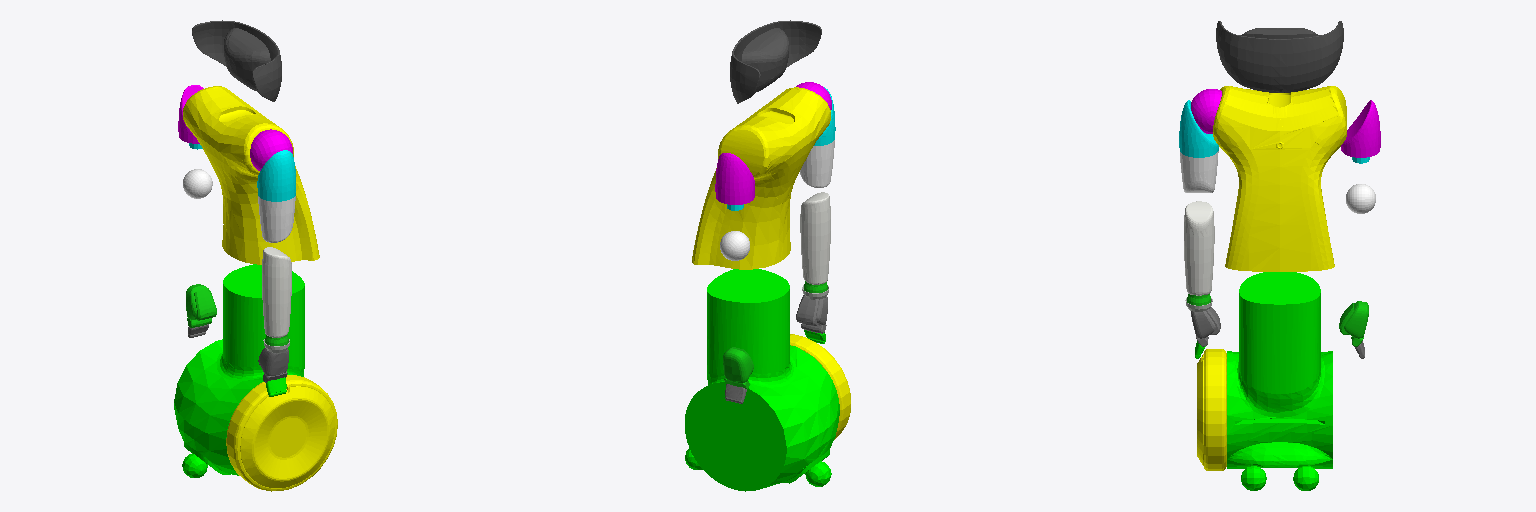
--- What the picture shows (computed from the rendered views, not written in the file) ---
The picture shows the robot from 3 angles, left to right: view 1: azimuth 30°, elevation 25°; view 2: azimuth 150°, elevation 25°; view 3: azimuth 270°, elevation 25°; orthographic projection.
Model R1SN000 with 59 links and 58 joints (27 revolute, 2 continuous, 3 prismatic, 26 fixed), rooted at mobile_base_body_link, posed all joints at 0.
Links seen in each view (by area): view 1: mobile_base_body_link, chest_link, mobile_base_r_tyre_link, head_link, r_forearm_link, r_shoulder_link, r_upperarm_link, l_hand_root_link, r_clavicle_link, r_hand_root_link, l_elbow_sphere_link, l_shoulder_link; view 2: mobile_base_body_link, chest_link, head_link, r_forearm_link, l_shoulder_link, mobile_base_r_tyre_link, r_upperarm_link, l_hand_root_link, r_hand_root_link, l_elbow_sphere_link; view 3: mobile_base_body_link, chest_link, head_link, mobile_base_r_tyre_link, r_forearm_link, l_shoulder_link, r_shoulder_link, r_upperarm_link, r_clavicle_link, l_hand_root_link, r_hand_root_link, l_elbow_sphere_link.
Link boxes in pixels (<box>): mobile_base_body_link: <box>174,264,304,477</box>; chest_link: <box>183,86,319,264</box>; mobile_base_r_tyre_link: <box>226,375,337,491</box>; head_link: <box>192,20,281,101</box>; r_forearm_link: <box>262,247,291,337</box>; r_shoulder_link: <box>257,150,295,201</box>; r_upperarm_link: <box>258,196,295,242</box>; l_hand_root_link: <box>186,284,216,327</box>; r_clavicle_link: <box>250,129,292,170</box>; r_hand_root_link: <box>258,348,288,382</box>; l_elbow_sphere_link: <box>183,169,212,198</box>; l_shoulder_link: <box>178,85,203,143</box>; mobile_base_body_link: <box>685,269,839,491</box>; chest_link: <box>692,87,830,269</box>; head_link: <box>730,20,821,103</box>; r_forearm_link: <box>800,192,830,284</box>; l_shoulder_link: <box>715,153,754,204</box>; mobile_base_r_tyre_link: <box>790,334,850,439</box>; r_upperarm_link: <box>800,140,834,187</box>; l_hand_root_link: <box>723,347,753,388</box>; r_hand_root_link: <box>796,295,827,333</box>; l_elbow_sphere_link: <box>720,231,749,260</box>; mobile_base_body_link: <box>1227,272,1332,490</box>; chest_link: <box>1213,86,1346,271</box>; head_link: <box>1216,21,1343,92</box>; mobile_base_r_tyre_link: <box>1197,349,1226,470</box>; r_forearm_link: <box>1184,201,1214,295</box>; l_shoulder_link: <box>1341,100,1380,157</box>; r_shoulder_link: <box>1179,100,1218,157</box>; r_upperarm_link: <box>1180,151,1218,192</box>; r_clavicle_link: <box>1191,89,1221,133</box>; l_hand_root_link: <box>1339,301,1368,346</box>; r_hand_root_link: <box>1191,307,1220,346</box>; l_elbow_sphere_link: <box>1346,184,1375,213</box>.
Bounding box of the posed robot: 0.394 × 0.5255 × 1.25 m (x, y, z).
19 mesh visuals loaded from 35 distinct referenced files (19 Collada DAE); not drawn: 16 (reference not matched to a file when rendering).

The robot description file, URDF, robot "R1SN000":

<robot name="R1SN000">
  <link name="mobile_base_body_link">
    <inertial>
      <origin xyz="0.00353188 0 0.062803" rpy="0 0 0"/>
      <mass value="14.0"/>
      <inertia ixx="0.342401" ixy="0.0" ixz="-0.0396992" iyy="0.362542" iyz="0.0" izz="0.168981"/>
    </inertial>
    <visual>
      <origin xyz="0 0 -0.16" rpy="0 0 0"/>
      <geometry>
        <mesh filename="package://cer/meshes/dae/sim_cer_mobilebase_body.dae" scale="0.001 0.001 0.001"/>
      </geometry>
      <material name="green">
        <color rgba="0 1 0 1"/>
      </material>
    </visual>
    <collision>
      <origin xyz="0 0 -0.16" rpy="0 0 0"/>
      <geometry>
        <mesh filename="package://cer/meshes/dae/sim_cer_mobilebase_body.dae" scale="0.001 0.001 0.001"/>
      </geometry>
    </collision>
  </link>
  <link name="base_link"/>
  <joint name="base_link_fixed_joint" type="fixed">
    <origin xyz="0 0 0" rpy="0 0 0"/>
    <parent link="mobile_base_body_link"/>
    <child link="base_link"/>
    <dynamics damping="0.1"/>
  </joint>
  <link name="ground_link"/>
  <joint name="ground_link_fixed_joint" type="fixed">
    <origin xyz="0 0 -0.2" rpy="0 0 0"/>
    <parent link="base_link"/>
    <child link="ground_link"/>
    <dynamics damping="0.1"/>
  </joint>
  <link name="mobile_base_lidar"/>
  <joint name="mobile_base_lidar_fixed_joint" type="fixed">
    <origin xyz="0.07 0 0.031" rpy="0 0 0"/>
    <parent link="mobile_base_body_link"/>
    <child link="mobile_base_lidar"/>
    <dynamics damping="0.1"/>
  </joint>
  <link name="torso_slider_eq_link">
    <inertial>
      <origin xyz="0.015175 2.80975e-06 0.244533" rpy="0 0 0"/>
      <mass value="7.5"/>
      <inertia ixx="0.0978792" ixy="-1.83466e-06" ixz="0.00625726" iyy="0.0969511" iyz="0.0" izz="0.0746114"/>
    </inertial>
    <visual>
      <origin xyz="-0.044 0 -0.231" rpy="0 0 0"/>
      <geometry>
        <mesh filename="package://cer/meshes/dae/sim_cer_torso_slider_eq.dae" scale="0.001 0.001 0.001"/>
      </geometry>
      <material name="black">
        <color rgba="0 0 0 1"/>
      </material>
    </visual>
    <collision>
      <origin xyz="-0.044 0 -0.231" rpy="0 0 0"/>
      <geometry>
        <mesh filename="package://cer/meshes/dae/sim_cer_torso_slider_eq.dae" scale="0.001 0.001 0.001"/>
      </geometry>
    </collision>
  </link>
  <joint name="torso_heave_eq_joint" type="prismatic">
    <origin xyz="0.044 0 0.071" rpy="0 0 0"/>
    <axis xyz="0.0 0.0 1.0"/>
    <parent link="mobile_base_body_link"/>
    <child link="torso_slider_eq_link"/>
    <limit effort="1200.0" lower="0.0" upper="0.17" velocity="0.5"/>
    <dynamics damping="1000.0"/>
  </joint>
  <link name="torso_pin_eq_link">
    <inertial>
      <origin xyz="0 0 0" rpy="0 0 0"/>
      <mass value="1.5"/>
      <inertia ixx="0.000379688" ixy="0.0" ixz="0.0" iyy="0.00143984" iyz="0.0" izz="0.00143984"/>
    </inertial>
    <visual>
      <origin xyz="0 0 0" rpy="0 0 0"/>
      <geometry>
        <mesh filename="package://cer/meshes/dae/sim_cer_torso_pin_eq.dae" scale="0.001 0.001 0.001"/>
      </geometry>
      <material name="red">
        <color rgba="1 0 0 1"/>
      </material>
    </visual>
    <collision>
      <origin xyz="0 0 0" rpy="0 0 0"/>
      <geometry>
        <mesh filename="package://cer/meshes/dae/sim_cer_torso_pin_eq.dae" scale="0.001 0.001 0.001"/>
      </geometry>
    </collision>
  </link>
  <joint name="torso_roll_eq_joint" type="revolute">
    <origin xyz="0 0 0.399" rpy="3.14159265359 0 0"/>
    <axis xyz="1.0 0.0 0.0"/>
    <parent link="torso_slider_eq_link"/>
    <child link="torso_pin_eq_link"/>
    <limit effort="50.0" lower="-0.523598775598" upper="0.523598775598" velocity="3.14"/>
    <dynamics damping="100.0"/>
  </joint>
  <link name="torso_platform_link">
    <inertial>
      <origin xyz="0 0 0" rpy="0 0 0"/>
      <mass value="1.5"/>
      <inertia ixx="0.00153125" ixy="0.0" ixz="0.0" iyy="0.00153125" iyz="0.0" izz="0.0030375"/>
    </inertial>
    <visual>
      <origin xyz="-0.044 0 -0.63" rpy="0 0 0"/>
      <geometry>
        <mesh filename="package://cer/meshes/dae/sim_cer_torso_platform.dae" scale="0.001 0.001 0.001"/>
      </geometry>
      <material name="blue">
        <color rgba="0 0 1 1"/>
      </material>
    </visual>
    <collision>
      <origin xyz="-0.044 0 -0.63" rpy="0 0 0"/>
      <geometry>
        <mesh filename="package://cer/meshes/dae/sim_cer_torso_platform.dae" scale="0.001 0.001 0.001"/>
      </geometry>
    </collision>
  </link>
  <joint name="torso_pitch_eq_joint" type="revolute">
    <origin xyz="0 0 0" rpy="3.14159265359 0 0"/>
    <axis xyz="0.0 1.0 0.0"/>
    <parent link="torso_pin_eq_link"/>
    <child link="torso_platform_link"/>
    <limit effort="50.0" lower="-0.523598775598" upper="0.523598775598" velocity="3.14"/>
    <dynamics damping="100.0"/>
  </joint>
  <link name="torso_tripod_root"/>
  <joint name="torso_tripod_root_fixed_joint" type="fixed">
    <origin xyz="0 0 0" rpy="0 0 3.14159265359"/>
    <parent link="torso_platform_link"/>
    <child link="torso_tripod_root"/>
    <dynamics damping="0.1"/>
  </joint>
  <link name="chest_link">
    <inertial>
      <origin xyz="-0.0330305 0 0.220198" rpy="0 0 0"/>
      <mass value="13.0"/>
      <inertia ixx="0.275816" ixy="0.0" ixz="0.0564476" iyy="0.253579" iyz="0.0" izz="0.127156"/>
    </inertial>
    <visual>
      <origin xyz="-0.044 0 -0.63" rpy="0 0 0"/>
      <geometry>
        <mesh filename="package://cer/meshes/dae/sim_cer_chest.dae" scale="0.001 0.001 0.001"/>
      </geometry>
      <material name="yellow">
        <color rgba="1 1 0 1"/>
      </material>
    </visual>
    <collision>
      <origin xyz="-0.044 0 -0.63" rpy="0 0 0"/>
      <geometry>
        <mesh filename="package://cer/meshes/dae/sim_cer_chest.dae" scale="0.001 0.001 0.001"/>
      </geometry>
    </collision>
  </link>
  <joint name="torso_yaw_joint" type="revolute">
    <origin xyz="0 0 0" rpy="0 0 0"/>
    <axis xyz="0.0 0.0 1.0"/>
    <parent link="torso_platform_link"/>
    <child link="chest_link"/>
    <limit effort="30.0" lower="-1.0471975512" upper="1.0471975512" velocity="3.14"/>
    <dynamics damping="10.0"/>
  </joint>
  <link name="torso"/>
  <joint name="torso_fixed_joint" type="fixed">
    <origin xyz="-0.042 0 0.185" rpy="0 0 0"/>
    <parent link="chest_link"/>
    <child link="torso"/>
    <dynamics damping="0.1"/>
  </joint>
  <link name="r_clavicle_link">
    <inertial>
      <origin xyz="0 0 0" rpy="0 0 0"/>
      <mass value="0.2"/>
      <inertia ixx="0.000288" ixy="0.0" ixz="0.0" iyy="0.000288" iyz="0.0" izz="0.000288"/>
    </inertial>
    <visual>
      <origin xyz="0.04 0.177 -1.0" rpy="0 0 0"/>
      <geometry>
        <mesh filename="package://cer/meshes/dae/sim_cer_r_clavicle.dae" scale="0.001 0.001 0.001"/>
      </geometry>
      <material name="pink">
        <color rgba="1 0 1 1"/>
      </material>
    </visual>
    <collision>
      <origin xyz="0.04 0.177 -1.0" rpy="0 0 0"/>
      <geometry>
        <mesh filename="package://cer/meshes/dae/sim_cer_r_clavicle.dae" scale="0.001 0.001 0.001"/>
      </geometry>
    </collision>
  </link>
  <joint name="r_shoulder_pitch_joint" type="revolute">
    <origin xyz="-0.084 -0.177 0.37" rpy="0 0 0"/>
    <axis xyz="0.0 -0.970296 0.241922"/>
    <parent link="chest_link"/>
    <child link="r_clavicle_link"/>
    <limit effort="30.0" lower="-0.523598775598" upper="1.57079632679" velocity="3.14"/>
    <dynamics damping="10.0"/>
  </joint>
  <link name="r_shoulder_link">
    <inertial>
      <origin xyz="1.5e-06 -0.042148 -0.06332" rpy="0 0 0"/>
      <mass value="0.5"/>
      <inertia ixx="0.00076143" ixy="0.0" ixz="-2.84508e-08" iyy="0.000819748" iyz="0.000135828" izz="0.000588486"/>
    </inertial>
    <visual>
      <origin xyz="0.04 0.177 -1.0" rpy="0 0 0"/>
      <geometry>
        <mesh filename="package://cer/meshes/dae/sim_cer_r_shoulder.dae" scale="0.001 0.001 0.001"/>
      </geometry>
      <material name="cyan">
        <color rgba="0 1 1 1"/>
      </material>
    </visual>
    <collision>
      <origin xyz="0.04 0.177 -1.0" rpy="0 0 0"/>
      <geometry>
        <mesh filename="package://cer/meshes/dae/sim_cer_r_shoulder.dae" scale="0.001 0.001 0.001"/>
      </geometry>
    </collision>
  </link>
  <joint name="r_shoulder_roll_joint" type="revolute">
    <origin xyz="0 0 0" rpy="0 0 0"/>
    <axis xyz="-1.0 0.0 0.0"/>
    <parent link="r_clavicle_link"/>
    <child link="r_shoulder_link"/>
    <limit effort="30.0" lower="-0.174532925199" upper="1.308996939" velocity="3.14"/>
    <dynamics damping="10.0"/>
  </joint>
  <link name="r_upperarm_FT_sensor_link">
    <inertial>
      <origin xyz="0 0 -0.014527" rpy="0 0 0"/>
      <mass value="0.3"/>
      <inertia ixx="6.00899e-05" ixy="0.0" ixz="0.0" iyy="6.00898e-05" iyz="0.0" izz="7.59375e-05"/>
    </inertial>
    <visual>
      <origin xyz="0.04 0.211 -0.89" rpy="0 0 0"/>
      <geometry>
        <mesh filename="package://cer/meshes/dae/sim_cer_r_upperarm_sensor.dae" scale="0.001 0.001 0.001"/>
      </geometry>
      <material name="green"/>
    </visual>
    <collision>
      <origin xyz="0.04 0.211 -0.89" rpy="0 0 0"/>
      <geometry>
        <mesh filename="package://cer/meshes/dae/sim_cer_r_upperarm_sensor.dae" scale="0.001 0.001 0.001"/>
      </geometry>
    </collision>
  </link>
  <joint name="r_shoulder_yaw_joint" type="revolute">
    <origin xyz="0 -0.034 -0.11" rpy="0 0 0"/>
    <axis xyz="0.0 0.0 -1.0"/>
    <parent link="r_shoulder_link"/>
    <child link="r_upperarm_FT_sensor_link"/>
    <limit effort="15.0" lower="-1.57079632679" upper="1.57079632679" velocity="3.14"/>
    <dynamics damping="10.0"/>
  </joint>
  <link name="r_upperarm_FT_sensor_frame"/>
  <joint name="r_upperarm_FT_sensor_frame_fixed_joint" type="fixed">
    <origin xyz="0 0 -0.0294" rpy="3.14159265359 0 1.57079632679"/>
    <parent link="r_upperarm_FT_sensor_link"/>
    <child link="r_upperarm_FT_sensor_frame"/>
    <dynamics damping="0.1"/>
  </joint>
  <link name="r_upperarm_link">
    <inertial>
      <origin xyz="0.000197 -0.001254 0.030305" rpy="3.14159265359 0 1.57079632679"/>
      <mass value="0.5"/>
      <inertia ixx="0.000849608" ixy="0.0" ixz="-3.39184e-05" iyy="0.000841002" iyz="-4.47567e-07" izz="0.000581528"/>
    </inertial>
    <visual>
      <origin xyz="0.211 0.04 0.8606" rpy="3.14159265359 0 1.57079632679"/>
      <geometry>
        <mesh filename="package://cer/meshes/dae/sim_cer_r_upperarm.dae" scale="0.001 0.001 0.001"/>
      </geometry>
      <material name="white">
        <color rgba="1 1 1 1"/>
      </material>
    </visual>
    <collision>
      <origin xyz="0.211 0.04 0.8606" rpy="3.14159265359 0 1.57079632679"/>
      <geometry>
        <mesh filename="package://cer/meshes/dae/sim_cer_r_upperarm.dae" scale="0.001 0.001 0.001"/>
      </geometry>
    </collision>
  </link>
  <joint name="r_upperarm_FT_sensor" type="fixed">
    <origin xyz="0 0 -0.0294" rpy="3.14159265359 0 1.57079632679"/>
    <parent link="r_upperarm_FT_sensor_link"/>
    <child link="r_upperarm_link"/>
    <dynamics damping="0.1"/>
  </joint>
  <link name="r_elbow_sphere_link">
    <inertial>
      <origin xyz="0 0 0" rpy="0 0 0"/>
      <mass value="0.2"/>
      <inertia ixx="0.000128" ixy="0.0" ixz="0.0" iyy="0.000128" iyz="0.0" izz="0.000128"/>
    </inertial>
    <visual>
      <origin xyz="0.04 0.211 -0.749" rpy="0 0 0"/>
      <geometry>
        <mesh filename="package://cer/meshes/dae/sim_cer_r_elbow_sphere.dae" scale="0.001 0.001 0.001"/>
      </geometry>
      <material name="dblue">
        <color rgba="0 0 0.8 1"/>
      </material>
    </visual>
    <collision>
      <origin xyz="0.04 0.211 -0.749" rpy="0 0 0"/>
      <geometry>
        <mesh filename="package://cer/meshes/dae/sim_cer_r_elbow_sphere.dae" scale="0.001 0.001 0.001"/>
      </geometry>
    </collision>
  </link>
  <joint name="r_elbow_joint" type="revolute">
    <origin xyz="0 0 0.1116" rpy="3.14159265359 0 1.57079632679"/>
    <axis xyz="0.0 -1.0 0.0"/>
    <parent link="r_upperarm_link"/>
    <child link="r_elbow_sphere_link"/>
    <limit effort="20.0" lower="0.0" upper="1.74532925199" velocity="3.14"/>
    <dynamics damping="10.0"/>
  </joint>
  <link name="r_forearm_link">
    <inertial>
      <origin xyz="-0.0005116 0.000175 -0.072511" rpy="0 0 0"/>
      <mass value="0.6"/>
      <inertia ixx="0.00283352" ixy="0.0" ixz="3.15449e-05" iyy="0.00282953" iyz="-1.03787e-07" izz="0.000436673"/>
    </inertial>
    <visual>
      <origin xyz="0.04 0.211 -0.678" rpy="0 0 0"/>
      <geometry>
        <mesh filename="package://cer/meshes/dae/sim_cer_r_forearm.dae" scale="0.001 0.001 0.001"/>
      </geometry>
      <material name="r_forearm_link_color">
        <color rgba="0.929 0.933 0.91 1.0"/>
      </material>
    </visual>
    <collision>
      <origin xyz="0.04 0.211 -0.678" rpy="0 0 0"/>
      <geometry>
        <mesh filename="package://cer/meshes/dae/sim_cer_r_forearm.dae" scale="0.001 0.001 0.001"/>
      </geometry>
    </collision>
  </link>
  <joint name="r_wrist_pronosupination_joint" type="revolute">
    <origin xyz="0 0 -0.071" rpy="0 0 0"/>
    <axis xyz="0.0 0.0 -1.0"/>
    <parent link="r_elbow_sphere_link"/>
    <child link="r_forearm_link"/>
    <limit effort="10.0" lower="-1.57079632679" upper="1.57079632679" velocity="3.14"/>
    <dynamics damping="10.0"/>
  </joint>
  <link name="r_wrist_tripod_root"/>
  <joint name="r_wrist_tripod_root_fixed_joint" type="fixed">
    <origin xyz="0 0 -0.22" rpy="3.14159265359 0 1.57079632679"/>
    <parent link="r_forearm_link"/>
    <child link="r_wrist_tripod_root"/>
    <dynamics damping="0.1"/>
  </joint>
  <link name="r_wrist_slider_eq_link">
    <inertial>
      <origin xyz="0 5.9e-05 -0.225759" rpy="0 0 0"/>
      <mass value="0.3"/>
      <inertia ixx="0.00094001" ixy="0.0" ixz="0.0" iyy="0.000940012" iyz="0.0" izz="0.00022094"/>
    </inertial>
    <visual>
      <origin xyz="0.04 0.211 -0.749" rpy="0 0 0"/>
      <geometry>
        <mesh filename="package://cer/meshes/dae/sim_cer_r_wrist_slider.dae" scale="0.001 0.001 0.001"/>
      </geometry>
      <material name="dgreen">
        <color rgba="0.1 0.8 0.1 1"/>
      </material>
    </visual>
    <collision>
      <origin xyz="0.04 0.211 -0.749" rpy="0 0 0"/>
      <geometry>
        <mesh filename="package://cer/meshes/dae/sim_cer_r_wrist_slider.dae" scale="0.001 0.001 0.001"/>
      </geometry>
    </collision>
  </link>
  <joint name="r_wrist_heave_eq_joint" type="prismatic">
    <origin xyz="0 0 0.071" rpy="0 0 0"/>
    <axis xyz="0.0 0.0 -1.0"/>
    <parent link="r_forearm_link"/>
    <child link="r_wrist_slider_eq_link"/>
    <limit effort="200.0" lower="0.0" upper="0.13" velocity="0.25"/>
    <dynamics damping="100.0"/>
  </joint>
  <link name="r_wrist_cup_eq_link">
    <inertial>
      <origin xyz="-1.1e-05 -0.0319409 -0.018146" rpy="0 0 0"/>
      <mass value="0.2"/>
      <inertia ixx="0.000102239" ixy="0.0" ixz="3.78925e-08" iyy="0.000102239" iyz="0.0" izz="0.000163555"/>
    </inertial>
    <visual>
      <origin xyz="0.04 0.179 -0.458" rpy="0 0 0"/>
      <geometry>
        <mesh filename="package://cer/meshes/dae/sim_cer_r_wrist_cup_eq.dae" scale="0.001 0.001 0.001"/>
      </geometry>
      <material name="r_wrist_cup_eq_link_color">
        <color rgba="0.776 0.8 0.769 1.0"/>
      </material>
    </visual>
    <collision>
      <origin xyz="0.04 0.179 -0.458" rpy="0 0 0"/>
      <geometry>
        <mesh filename="package://cer/meshes/dae/sim_cer_r_wrist_cup_eq.dae" scale="0.001 0.001 0.001"/>
      </geometry>
    </collision>
  </link>
  <joint name="r_wrist_roll_eq_joint" type="revolute">
    <origin xyz="-0.032 0 -0.291" rpy="0 0 1.57079632679"/>
    <axis xyz="0.0 1.0 0.0"/>
    <parent link="r_wrist_slider_eq_link"/>
    <child link="r_wrist_cup_eq_link"/>
    <limit effort="10.0" lower="-0.523598775598" upper="0.523598775598" velocity="3.14"/>
    <dynamics damping="10.0"/>
  </joint>
  <link name="r_hand_root_link">
    <inertial>
      <origin xyz="0.0001906 0.013614 -0.06234" rpy="0 0 0"/>
      <mass value="0.3"/>
      <inertia ixx="0.000294522" ixy="-1.41036e-06" ixz="6.91732e-08" iyy="0.000297774" iyz="2.11461e-05" izz="0.000189897"/>
    </inertial>
    <visual>
      <origin xyz="0.04 0.211 -0.458" rpy="0 0 0"/>
      <geometry>
        <mesh filename="package://cer/meshes/dae/sim_cer_r_hand_root.dae" scale="0.001 0.001 0.001"/>
      </geometry>
      <material name="gray">
        <color rgba="0.5 0.5 0.5 1"/>
      </material>
    </visual>
    <collision>
      <origin xyz="0.04 0.211 -0.458" rpy="0 0 0"/>
      <geometry>
        <mesh filename="package://cer/meshes/dae/sim_cer_r_hand_root.dae" scale="0.001 0.001 0.001"/>
      </geometry>
    </collision>
  </link>
  <joint name="r_wrist_pitch_eq_joint" type="revolute">
    <origin xyz="0 -0.032 0" rpy="0 0 -1.57079632679"/>
    <axis xyz="0.0 -1.0 0.0"/>
    <parent link="r_wrist_cup_eq_link"/>
    <child link="r_hand_root_link"/>
    <limit effort="10.0" lower="-0.523598775598" upper="0.523598775598" velocity="3.14"/>
    <dynamics damping="10.0"/>
  </joint>
  <link name="r_wrist"/>
  <joint name="r_wrist_fixed_joint" type="fixed">
    <origin xyz="0 0 0" rpy="3.14159265359 0 1.57079632679"/>
    <parent link="r_hand_root_link"/>
    <child link="r_wrist"/>
    <dynamics damping="0.1"/>
  </joint>
  <link name="r_gripper"/>
  <joint name="r_gripper_fixed_joint" type="fixed">
    <origin xyz="0 0.026917 -0.100456" rpy="0 1.30899714732 1.57079632679"/>
    <parent link="r_hand_root_link"/>
    <child link="r_gripper"/>
    <dynamics damping="0.1"/>
  </joint>
  <link name="r_hand_paddle_proximal_link">
    <inertial>
      <origin xyz="-9.65e-05 -0.010867 -0.022258" rpy="0 0 0"/>
      <mass value="0.05"/>
      <inertia ixx="0.0001" ixy="6.93652e-09" ixz="1.75564e-08" iyy="0.0001" iyz="-1.81901e-06" izz="0.0001"/>
    </inertial>
    <visual>
      <origin xyz="0.04 0.198143 -0.345494" rpy="0 0 0"/>
      <geometry>
        <mesh filename="package://cer/meshes/dae/sim_cer_r_hand_paddle_proximal.dae" scale="0.001 0.001 0.001"/>
      </geometry>
      <material name="green"/>
    </visual>
    <collision>
      <origin xyz="0.04 0.198143 -0.345494" rpy="0 0 0"/>
      <geometry>
        <mesh filename="package://cer/meshes/dae/sim_cer_r_hand_paddle_proximal.dae" scale="0.001 0.001 0.001"/>
      </geometry>
    </collision>
  </link>
  <joint name="r_hand_paddle_proximal_joint" type="revolute">
    <origin xyz="0 0.012857 -0.112506" rpy="0 0 0"/>
    <axis xyz="1.0 0.0 0.0"/>
    <parent link="r_hand_root_link"/>
    <child link="r_hand_paddle_proximal_link"/>
    <limit effort="5.0" lower="0.0" upper="1.2217304764" velocity="3.14"/>
    <dynamics damping="10.0"/>
  </joint>
  <link name="r_hand_paddle_distal_link">
    <inertial>
      <origin xyz="0.0013214 -0.005592 -0.020601" rpy="0 0 0"/>
      <mass value="0.05"/>
      <inertia ixx="0.0001" ixy="1.94983e-07" ixz="9.0126e-07" iyy="0.0001" iyz="-6.79853e-07" izz="0.0001"/>
    </inertial>
    <visual>
      <origin xyz="0.04 0.214471 -0.306748" rpy="0 0 0"/>
      <geometry>
        <mesh filename="package://cer/meshes/dae/sim_cer_r_hand_paddle_distal.dae" scale="0.001 0.001 0.001"/>
      </geometry>
      <material name="black"/>
    </visual>
    <collision>
      <origin xyz="0.04 0.214471 -0.306748" rpy="0 0 0"/>
      <geometry>
        <mesh filename="package://cer/meshes/dae/sim_cer_r_hand_paddle_distal.dae" scale="0.001 0.001 0.001"/>
      </geometry>
    </collision>
  </link>
  <joint name="r_hand_paddle_distal_joint" type="revolute">
    <origin xyz="0 -0.016328 -0.038746" rpy="0 0 0"/>
    <axis xyz="1.0 0.0 0.0"/>
    <parent link="r_hand_paddle_proximal_link"/>
    <child link="r_hand_paddle_distal_link"/>
    <limit effort="5.0" lower="0.0" upper="1.2217304764" velocity="3.14"/>
    <dynamics damping="10.0"/>
  </joint>
  <link name="r_hand_paddle_tip"/>
  <joint name="r_hand_paddle_tip_fixed_joint" type="fixed">
    <origin xyz="0 -0.008959 -0.044226" rpy="0 1.30899714732 1.57079632679"/>
    <parent link="r_hand_paddle_distal_link"/>
    <child link="r_hand_paddle_tip"/>
    <dynamics damping="0.1"/>
  </joint>
  <link name="r_hand_thumb_proximal_link">
    <inertial>
      <origin xyz="0.002515 0.017936 -0.003159" rpy="0 0 0"/>
      <mass value="0.05"/>
      <inertia ixx="0.0001" ixy="1.49367e-09" ixz="3.12525e-10" iyy="0.0001" iyz="2.63475e-06" izz="0.0001"/>
    </inertial>
    <visual>
      <origin xyz="0.04 0.171352 -0.382282" rpy="0 0 0"/>
      <geometry>
        <mesh filename="package://cer/meshes/dae/sim_cer_r_hand_thumb_proximal.dae" scale="0.001 0.001 0.001"/>
      </geometry>
      <material name="red"/>
    </visual>
    <collision>
      <origin xyz="0.04 0.171352 -0.382282" rpy="0 0 0"/>
      <geometry>
        <mesh filename="package://cer/meshes/dae/sim_cer_r_hand_thumb_proximal.dae" scale="0.001 0.001 0.001"/>
      </geometry>
    </collision>
  </link>
  <joint name="r_hand_thumb_proximal_joint" type="revolute">
    <origin xyz="0 0.039648 -0.075718" rpy="0 0 0"/>
    <axis xyz="-1.0 0.0 0.0"/>
    <parent link="r_hand_root_link"/>
    <child link="r_hand_thumb_proximal_link"/>
    <limit effort="5.0" lower="0.0" upper="1.0471975512" velocity="3.14"/>
    <dynamics damping="10.0"/>
  </joint>
  <link name="r_hand_thumb_distal_link">
    <inertial>
      <origin xyz="0.0024483 0.014529 -0.005865" rpy="0 0 0"/>
      <mass value="0.05"/>
      <inertia ixx="3.85163e-06" ixy="-1.50194e-10" ixz="4.04682e-10" iyy="7.40388e-06" iyz="9.14021e-07" izz="8.52416e-06"/>
    </inertial>
    <visual>
      <origin xyz="0.04 0.130827 -0.371296" rpy="0 0 0"/>
      <geometry>
        <mesh filename="package://cer/meshes/dae/sim_cer_r_hand_thumb_distal.dae" scale="0.001 0.001 0.001"/>
      </geometry>
      <material name="blue"/>
    </visual>
    <collision>
      <origin xyz="0.04 0.130827 -0.371296" rpy="0 0 0"/>
      <geometry>
        <mesh filename="package://cer/meshes/dae/sim_cer_r_hand_thumb_distal.dae" scale="0.001 0.001 0.001"/>
      </geometry>
    </collision>
  </link>
  <joint name="r_hand_thumb_distal_joint" type="revolute">
    <origin xyz="0 0.040525 -0.010986" rpy="0 0 0"/>
    <axis xyz="-1.0 0.0 0.0"/>
    <parent link="r_hand_thumb_proximal_link"/>
    <child link="r_hand_thumb_distal_link"/>
    <limit effort="5.0" lower="0.0" upper="1.2217304764" velocity="3.14"/>
    <dynamics damping="10.0"/>
  </joint>
  <link name="r_hand_thumb_tip"/>
  <joint name="r_hand_thumb_tip_fixed_joint" type="fixed">
    <origin xyz="0 0.028617 -0.014073" rpy="0 1.30899714732 1.57079632679"/>
    <parent link="r_hand_thumb_distal_link"/>
    <child link="r_hand_thumb_tip"/>
    <dynamics damping="0.1"/>
  </joint>
  <link name="l_clavicle_link">
    <inertial>
      <origin xyz="0 0 0" rpy="0 0 0"/>
      <mass value="0.2"/>
      <inertia ixx="0.000288" ixy="0.0" ixz="0.0" iyy="0.000288" iyz="0.0" izz="0.000288"/>
    </inertial>
    <visual>
      <origin xyz="0.04 -0.177 -1.0" rpy="0 0 0"/>
      <geometry>
        <mesh filename="package://cer/meshes/dae/sim_cer_l_clavicle.dae" scale="0.001 0.001 0.001"/>
      </geometry>
      <material name="yellow"/>
    </visual>
    <collision>
      <origin xyz="0.04 -0.177 -1.0" rpy="0 0 0"/>
      <geometry>
        <mesh filename="package://cer/meshes/dae/sim_cer_l_clavicle.dae" scale="0.001 0.001 0.001"/>
      </geometry>
    </collision>
  </link>
  <joint name="l_shoulder_pitch_joint" type="revolute">
    <origin xyz="-0.084 0.177 0.37" rpy="0 0 0"/>
    <axis xyz="0.0 -0.970296 -0.241922"/>
    <parent link="chest_link"/>
    <child link="l_clavicle_link"/>
    <limit effort="30.0" lower="-0.523598775598" upper="1.57079632679" velocity="3.14"/>
    <dynamics damping="10.0"/>
  </joint>
  <link name="l_shoulder_link">
    <inertial>
      <origin xyz="1.5e-06 0.042148 -0.06332" rpy="0 0 0"/>
      <mass value="0.5"/>
      <inertia ixx="0.00076143" ixy="0.0" ixz="-2.84061e-08" iyy="0.000819748" iyz="-0.000135828" izz="0.000588486"/>
    </inertial>
    <visual>
      <origin xyz="0.04 -0.177 -1.0" rpy="0 0 0"/>
      <geometry>
        <mesh filename="package://cer/meshes/dae/sim_cer_l_shoulder.dae" scale="0.001 0.001 0.001"/>
      </geometry>
      <material name="pink"/>
    </visual>
    <collision>
      <origin xyz="0.04 -0.177 -1.0" rpy="0 0 0"/>
      <geometry>
        <mesh filename="package://cer/meshes/dae/sim_cer_l_shoulder.dae" scale="0.001 0.001 0.001"/>
      </geometry>
    </collision>
  </link>
  <joint name="l_shoulder_roll_joint" type="revolute">
    <origin xyz="0 0 0" rpy="0 0 0"/>
    <axis xyz="1.0 0.0 0.0"/>
    <parent link="l_clavicle_link"/>
    <child link="l_shoulder_link"/>
    <limit effort="30.0" lower="-0.174532925199" upper="1.308996939" velocity="3.14"/>
    <dynamics damping="10.0"/>
  </joint>
  <link name="l_upperarm_FT_sensor_link">
    <inertial>
      <origin xyz="0 0 -0.014527" rpy="0 0 0"/>
      <mass value="0.3"/>
      <inertia ixx="6.00899e-05" ixy="0.0" ixz="0.0" iyy="6.00898e-05" iyz="0.0" izz="7.59375e-05"/>
    </inertial>
    <visual>
      <origin xyz="0.04 -0.211 -0.89" rpy="0 0 0"/>
      <geometry>
        <mesh filename="package://cer/meshes/dae/sim_cer_l_upperarm_sensor.dae" scale="0.001 0.001 0.001"/>
      </geometry>
      <material name="cyan"/>
    </visual>
    <collision>
      <origin xyz="0.04 -0.211 -0.89" rpy="0 0 0"/>
      <geometry>
        <mesh filename="package://cer/meshes/dae/sim_cer_l_upperarm_sensor.dae" scale="0.001 0.001 0.001"/>
      </geometry>
    </collision>
  </link>
  <joint name="l_shoulder_yaw_joint" type="revolute">
    <origin xyz="0 0.034 -0.11" rpy="0 0 0"/>
    <axis xyz="0.0 0.0 1.0"/>
    <parent link="l_shoulder_link"/>
    <child link="l_upperarm_FT_sensor_link"/>
    <limit effort="15.0" lower="-1.57079632679" upper="1.57079632679" velocity="3.14"/>
    <dynamics damping="10.0"/>
  </joint>
  <link name="l_upperarm_FT_sensor_frame"/>
  <joint name="l_upperarm_FT_sensor_frame_fixed_joint" type="fixed">
    <origin xyz="0 0 -0.0294" rpy="3.14159265359 0 1.57079632679"/>
    <parent link="l_upperarm_FT_sensor_link"/>
    <child link="l_upperarm_FT_sensor_frame"/>
    <dynamics damping="0.1"/>
  </joint>
  <link name="l_upperarm_link">
    <inertial>
      <origin xyz="-0.000197 -0.001254 0.030305" rpy="3.14159265359 0 1.57079632679"/>
      <mass value="0.5"/>
      <inertia ixx="0.000849607" ixy="0.0" ixz="-3.39183e-05" iyy="0.000841001" iyz="4.47458e-07" izz="0.000581528"/>
    </inertial>
    <visual>
      <origin xyz="-0.211 0.04 0.8606" rpy="3.14159265359 0 1.57079632679"/>
      <geometry>
        <mesh filename="package://cer/meshes/dae/sim_cer_l_upperarm.dae" scale="0.001 0.001 0.001"/>
      </geometry>
      <material name="green"/>
    </visual>
    <collision>
      <origin xyz="-0.211 0.04 0.8606" rpy="3.14159265359 0 1.57079632679"/>
      <geometry>
        <mesh filename="package://cer/meshes/dae/sim_cer_l_upperarm.dae" scale="0.001 0.001 0.001"/>
      </geometry>
    </collision>
  </link>
  <joint name="l_upperarm_FT_sensor" type="fixed">
    <origin xyz="0 0 -0.0294" rpy="3.14159265359 0 1.57079632679"/>
    <parent link="l_upperarm_FT_sensor_link"/>
    <child link="l_upperarm_link"/>
    <dynamics damping="0.1"/>
  </joint>
  <link name="l_elbow_sphere_link">
    <inertial>
      <origin xyz="0 0 0" rpy="0 0 0"/>
      <mass value="0.2"/>
      <inertia ixx="0.000128" ixy="0.0" ixz="0.0" iyy="0.000128" iyz="0.0" izz="0.000128"/>
    </inertial>
    <visual>
      <origin xyz="0.04 -0.211 -0.749" rpy="0 0 0"/>
      <geometry>
        <mesh filename="package://cer/meshes/dae/sim_cer_l_elbow_sphere.dae" scale="0.001 0.001 0.001"/>
      </geometry>
      <material name="white"/>
    </visual>
    <collision>
      <origin xyz="0.04 -0.211 -0.749" rpy="0 0 0"/>
      <geometry>
        <mesh filename="package://cer/meshes/dae/sim_cer_l_elbow_sphere.dae" scale="0.001 0.001 0.001"/>
      </geometry>
    </collision>
  </link>
  <joint name="l_elbow_joint" type="revolute">
    <origin xyz="0 0 0.1116" rpy="3.14159265359 0 1.57079632679"/>
    <axis xyz="0.0 -1.0 0.0"/>
    <parent link="l_upperarm_link"/>
    <child link="l_elbow_sphere_link"/>
    <limit effort="20.0" lower="0.0" upper="1.74532925199" velocity="3.14"/>
    <dynamics damping="10.0"/>
  </joint>
  <link name="l_forearm_link">
    <inertial>
      <origin xyz="-0.0005116 -0.000175 -0.072511" rpy="0 0 0"/>
      <mass value="0.6"/>
      <inertia ixx="0.00283352" ixy="0.0" ixz="3.15449e-05" iyy="0.00282953" iyz="1.0379e-07" izz="0.000436673"/>
    </inertial>
    <visual>
      <origin xyz="0.04 -0.211 -0.678" rpy="0 0 0"/>
      <geometry>
        <mesh filename="package://cer/meshes/dae/sim_cer_l_forearm.dae" scale="0.001 0.001 0.001"/>
      </geometry>
      <material name="l_forearm_link_color">
        <color rgba="0.929 0.933 0.91 1.0"/>
      </material>
    </visual>
    <collision>
      <origin xyz="0.04 -0.211 -0.678" rpy="0 0 0"/>
      <geometry>
        <mesh filename="package://cer/meshes/dae/sim_cer_l_forearm.dae" scale="0.001 0.001 0.001"/>
      </geometry>
    </collision>
  </link>
  <joint name="l_wrist_pronosupination_joint" type="revolute">
    <origin xyz="0 0 -0.071" rpy="0 0 0"/>
    <axis xyz="0.0 0.0 1.0"/>
    <parent link="l_elbow_sphere_link"/>
    <child link="l_forearm_link"/>
    <limit effort="10.0" lower="-1.57079632679" upper="1.57079632679" velocity="3.14"/>
    <dynamics damping="10.0"/>
  </joint>
  <link name="l_wrist_tripod_root"/>
  <joint name="l_wrist_tripod_root_fixed_joint" type="fixed">
    <origin xyz="0 0 -0.22" rpy="3.14159265359 0 -1.57079632679"/>
    <parent link="l_forearm_link"/>
    <child link="l_wrist_tripod_root"/>
    <dynamics damping="0.1"/>
  </joint>
  <link name="l_wrist_slider_eq_link">
    <inertial>
      <origin xyz="0 -5.9e-05 -0.225761" rpy="0 0 0"/>
      <mass value="0.3"/>
      <inertia ixx="0.000939997" ixy="0.0" ixz="0.0" iyy="0.00094" iyz="4.18243e-09" izz="0.000220942"/>
    </inertial>
    <visual>
      <origin xyz="0.04 -0.211 -0.749" rpy="0 0 0"/>
      <geometry>
        <mesh filename="package://cer/meshes/dae/sim_cer_l_wrist_slider.dae" scale="0.001 0.001 0.001"/>
      </geometry>
      <material name="dblue"/>
    </visual>
    <collision>
      <origin xyz="0.04 -0.211 -0.749" rpy="0 0 0"/>
      <geometry>
        <mesh filename="package://cer/meshes/dae/sim_cer_l_wrist_slider.dae" scale="0.001 0.001 0.001"/>
      </geometry>
    </collision>
  </link>
  <joint name="l_wrist_heave_eq_joint" type="prismatic">
    <origin xyz="0 0 0.071" rpy="0 0 0"/>
    <axis xyz="0.0 0.0 -1.0"/>
    <parent link="l_forearm_link"/>
    <child link="l_wrist_slider_eq_link"/>
    <limit effort="200.0" lower="0.0" upper="0.13" velocity="0.25"/>
    <dynamics damping="100.0"/>
  </joint>
  <link name="l_wrist_cup_eq_link">
    <inertial>
      <origin xyz="0.0319892 -5.9e-05 -0.018146" rpy="0 0 0"/>
      <mass value="0.2"/>
      <inertia ixx="0.000102239" ixy="0.0" ixz="3.78925e-08" iyy="0.000102239" iyz="0.0" izz="0.000163555"/>
    </inertial>
    <visual>
      <origin xyz="0.072 -0.211 -0.458" rpy="0 0 0"/>
      <geometry>
        <mesh filename="package://cer/meshes/dae/sim_cer_l_wrist_cup_eq.dae" scale="0.001 0.001 0.001"/>
      </geometry>
      <material name="l_wrist_cup_eq_link_color">
        <color rgba="0.776 0.8 0.769 1.0"/>
      </material>
    </visual>
    <collision>
      <origin xyz="0.072 -0.211 -0.458" rpy="0 0 0"/>
      <geometry>
        <mesh filename="package://cer/meshes/dae/sim_cer_l_wrist_cup_eq.dae" scale="0.001 0.001 0.001"/>
      </geometry>
    </collision>
  </link>
  <joint name="l_wrist_roll_eq_joint" type="revolute">
    <origin xyz="-0.032 0 -0.291" rpy="0 0 0"/>
    <axis xyz="1.0 0.0 0.0"/>
    <parent link="l_wrist_slider_eq_link"/>
    <child link="l_wrist_cup_eq_link"/>
    <limit effort="10.0" lower="-0.523598775598" upper="0.523598775598" velocity="3.14"/>
    <dynamics damping="10.0"/>
  </joint>
  <link name="l_hand_root_link">
    <inertial>
      <origin xyz="0.0001906 -0.013614 -0.06234" rpy="0 0 0"/>
      <mass value="0.3"/>
      <inertia ixx="0.000294522" ixy="1.41029e-06" ixz="6.92026e-08" iyy="0.000297775" iyz="-2.11461e-05" izz="0.000189897"/>
    </inertial>
    <visual>
      <origin xyz="0.04 -0.211 -0.458" rpy="0 0 0"/>
      <geometry>
        <mesh filename="package://cer/meshes/dae/sim_cer_l_hand_root.dae" scale="0.001 0.001 0.001"/>
      </geometry>
      <material name="dgreen"/>
    </visual>
    <collision>
      <origin xyz="0.04 -0.211 -0.458" rpy="0 0 0"/>
      <geometry>
        <mesh filename="package://cer/meshes/dae/sim_cer_l_hand_root.dae" scale="0.001 0.001 0.001"/>
      </geometry>
    </collision>
  </link>
  <joint name="l_wrist_pitch_eq_joint" type="revolute">
    <origin xyz="0.032 0 0" rpy="0 0 0"/>
    <axis xyz="0.0 -1.0 0.0"/>
    <parent link="l_wrist_cup_eq_link"/>
    <child link="l_hand_root_link"/>
    <limit effort="10.0" lower="-0.523598775598" upper="0.523598775598" velocity="3.14"/>
    <dynamics damping="10.0"/>
  </joint>
  <link name="l_wrist"/>
  <joint name="l_wrist_fixed_joint" type="fixed">
    <origin xyz="0 0 0" rpy="3.14159265359 0 -1.57079632679"/>
    <parent link="l_hand_root_link"/>
    <child link="l_wrist"/>
    <dynamics damping="0.1"/>
  </joint>
  <link name="l_gripper"/>
  <joint name="l_gripper_fixed_joint" type="fixed">
    <origin xyz="0 -0.026917 -0.100456" rpy="3.14159265359 1.30899714732 -1.57079632679"/>
    <parent link="l_hand_root_link"/>
    <child link="l_gripper"/>
    <dynamics damping="0.1"/>
  </joint>
  <link name="l_hand_paddle_proximal_link">
    <inertial>
      <origin xyz="-9.65e-05 0.010867 -0.022259" rpy="0 0 0"/>
      <mass value="0.05"/>
      <inertia ixx="0.0001" ixy="-6.9439e-09" ixz="1.7549e-08" iyy="0.0001" iyz="1.81902e-06" izz="0.0001"/>
    </inertial>
    <visual>
      <origin xyz="0.04 -0.198143 -0.345494" rpy="0 0 0"/>
      <geometry>
        <mesh filename="package://cer/meshes/dae/sim_cer_l_hand_paddle_proximal.dae" scale="0.001 0.001 0.001"/>
      </geometry>
      <material name="gray"/>
    </visual>
    <collision>
      <origin xyz="0.04 -0.198143 -0.345494" rpy="0 0 0"/>
      <geometry>
        <mesh filename="package://cer/meshes/dae/sim_cer_l_hand_paddle_proximal.dae" scale="0.001 0.001 0.001"/>
      </geometry>
    </collision>
  </link>
  <joint name="l_hand_paddle_proximal_joint" type="revolute">
    <origin xyz="0 -0.012857 -0.112506" rpy="0 0 0"/>
    <axis xyz="-1.0 0.0 0.0"/>
    <parent link="l_hand_root_link"/>
    <child link="l_hand_paddle_proximal_link"/>
    <limit effort="5.0" lower="0.0" upper="1.2217304764" velocity="3.14"/>
    <dynamics damping="10.0"/>
  </joint>
  <link name="l_hand_paddle_distal_link">
    <inertial>
      <origin xyz="0.0013214 0.005592 -0.020601" rpy="0 0 0"/>
      <mass value="0.05"/>
      <inertia ixx="0.0001" ixy="-1.94983e-07" ixz="9.01259e-07" iyy="0.0001" iyz="6.79853e-07" izz="0.0001"/>
    </inertial>
    <visual>
      <origin xyz="0.04 -0.214471 -0.306748" rpy="0 0 0"/>
      <geometry>
        <mesh filename="package://cer/meshes/dae/sim_cer_l_hand_paddle_distal.dae" scale="0.001 0.001 0.001"/>
      </geometry>
      <material name="green"/>
    </visual>
    <collision>
      <origin xyz="0.04 -0.214471 -0.306748" rpy="0 0 0"/>
      <geometry>
        <mesh filename="package://cer/meshes/dae/sim_cer_l_hand_paddle_distal.dae" scale="0.001 0.001 0.001"/>
      </geometry>
    </collision>
  </link>
  <joint name="l_hand_paddle_distal_joint" type="revolute">
    <origin xyz="0 0.016328 -0.038746" rpy="0 0 0"/>
    <axis xyz="-1.0 0.0 0.0"/>
    <parent link="l_hand_paddle_proximal_link"/>
    <child link="l_hand_paddle_distal_link"/>
    <limit effort="5.0" lower="0.0" upper="1.2217304764" velocity="3.14"/>
    <dynamics damping="10.0"/>
  </joint>
  <link name="l_hand_paddle_tip"/>
  <joint name="l_hand_paddle_tip_fixed_joint" type="fixed">
    <origin xyz="0 0.008959 -0.044226" rpy="3.14159265359 1.30899714732 -1.57079632679"/>
    <parent link="l_hand_paddle_distal_link"/>
    <child link="l_hand_paddle_tip"/>
    <dynamics damping="0.1"/>
  </joint>
  <link name="l_hand_thumb_proximal_link">
    <inertial>
      <origin xyz="0.002515 -0.017936 -0.003159" rpy="0 0 0"/>
      <mass value="0.05"/>
      <inertia ixx="0.0001" ixy="-1.50858e-09" ixz="3.04948e-10" iyy="0.0001" iyz="-2.63475e-06" izz="0.0001"/>
    </inertial>
    <visual>
      <origin xyz="0.04 -0.171352 -0.382282" rpy="0 0 0"/>
      <geometry>
        <mesh filename="package://cer/meshes/dae/sim_cer_l_hand_thumb_proximal.dae" scale="0.001 0.001 0.001"/>
      </geometry>
      <material name="black"/>
    </visual>
    <collision>
      <origin xyz="0.04 -0.171352 -0.382282" rpy="0 0 0"/>
      <geometry>
        <mesh filename="package://cer/meshes/dae/sim_cer_l_hand_thumb_proximal.dae" scale="0.001 0.001 0.001"/>
      </geometry>
    </collision>
  </link>
  <joint name="l_hand_thumb_proximal_joint" type="revolute">
    <origin xyz="0 -0.039648 -0.075718" rpy="0 0 0"/>
    <axis xyz="1.0 0.0 0.0"/>
    <parent link="l_hand_root_link"/>
    <child link="l_hand_thumb_proximal_link"/>
    <limit effort="5.0" lower="0.0" upper="1.0471975512" velocity="3.14"/>
    <dynamics damping="10.0"/>
  </joint>
  <link name="l_hand_thumb_distal_link">
    <inertial>
      <origin xyz="0.0021933 -0.014529 -0.005865" rpy="0 0 0"/>
      <mass value="0.05"/>
      <inertia ixx="0.0001" ixy="1.50893e-10" ixz="4.0488e-10" iyy="0.0001" iyz="-9.14021e-07" izz="0.0001"/>
    </inertial>
    <visual>
      <origin xyz="0.039745 -0.130827 -0.371296" rpy="0 0 0"/>
      <geometry>
        <mesh filename="package://cer/meshes/dae/sim_cer_l_hand_thumb_distal.dae" scale="0.001 0.001 0.001"/>
      </geometry>
      <material name="red"/>
    </visual>
    <collision>
      <origin xyz="0.039745 -0.130827 -0.371296" rpy="0 0 0"/>
      <geometry>
        <mesh filename="package://cer/meshes/dae/sim_cer_l_hand_thumb_distal.dae" scale="0.001 0.001 0.001"/>
      </geometry>
    </collision>
  </link>
  <joint name="l_hand_thumb_distal_joint" type="revolute">
    <origin xyz="0.000255 -0.040525 -0.010986" rpy="0 0 0"/>
    <axis xyz="1.0 0.0 0.0"/>
    <parent link="l_hand_thumb_proximal_link"/>
    <child link="l_hand_thumb_distal_link"/>
    <limit effort="5.0" lower="0.0" upper="1.2217304764" velocity="3.14"/>
    <dynamics damping="10.0"/>
  </joint>
  <link name="l_hand_thumb_tip"/>
  <joint name="l_hand_thumb_tip_fixed_joint" type="fixed">
    <origin xyz="-0.000255 -0.028617 -0.014073" rpy="3.14159265359 1.30899714732 -1.57079632679"/>
    <parent link="l_hand_thumb_distal_link"/>
    <child link="l_hand_thumb_tip"/>
    <dynamics damping="0.1"/>
  </joint>
  <link name="neck_link">
    <inertial>
      <origin xyz="-0.0003217 0 0.07756" rpy="0 0 0"/>
      <mass value="1.4"/>
      <inertia ixx="0.00429793" ixy="0.0" ixz="-0.000592817" iyy="0.00443784" iyz="-6.85477e-08" izz="0.000419904"/>
    </inertial>
    <visual>
      <origin xyz="0.05 0 -1.03" rpy="0 0 0"/>
      <geometry>
        <mesh filename="package://cer/meshes/dae/sim_cer_neck.dae" scale="0.001 0.001 0.001"/>
      </geometry>
      <material name="blue"/>
    </visual>
    <collision>
      <origin xyz="0.05 0 -1.03" rpy="0 0 0"/>
      <geometry>
        <mesh filename="package://cer/meshes/dae/sim_cer_neck.dae" scale="0.001 0.001 0.001"/>
      </geometry>
    </collision>
  </link>
  <joint name="neck_pitch_joint" type="revolute">
    <origin xyz="-0.094 0 0.4" rpy="0 0 0"/>
    <axis xyz="0.0 1.0 0.0"/>
    <parent link="chest_link"/>
    <child link="neck_link"/>
    <limit effort="10.0" lower="-0.523598775598" upper="0.872664625997" velocity="3.14"/>
    <dynamics damping="10.0"/>
  </joint>
  <link name="head_link">
    <inertial>
      <origin xyz="0.0301486 -1.57202e-06 -0.00035" rpy="0 0 0"/>
      <mass value="2.0"/>
      <inertia ixx="0.0106536" ixy="-7.34817e-08" ixz="0.000274098" iyy="0.00398482" iyz="1.64063e-07" izz="0.00944369"/>
    </inertial>
    <visual>
      <origin xyz="0.0383205 0 -1.18838" rpy="0 0 0"/>
      <geometry>
        <mesh filename="package://cer/meshes/dae/sim_cer_head.dae" scale="0.001 0.001 0.001"/>
      </geometry>
      <material name="head_link_color">
        <color rgba="0.368932 0.368932 0.368932 1.0"/>
      </material>
    </visual>
    <collision>
      <origin xyz="0.0383205 0 -1.18838" rpy="0 0 0"/>
      <geometry>
        <mesh filename="package://cer/meshes/dae/sim_cer_head.dae" scale="0.001 0.001 0.001"/>
      </geometry>
    </collision>
  </link>
  <joint name="neck_yaw_joint" type="revolute">
    <origin xyz="0.0116795 0 0.15838" rpy="0 0 0"/>
    <axis xyz="0.173648 0.0 0.984808"/>
    <parent link="neck_link"/>
    <child link="head_link"/>
    <limit effort="10.0" lower="-1.3962634016" upper="1.3962634016" velocity="3.14"/>
    <dynamics damping="10.0"/>
  </joint>
  <link name="depth_rgb"/>
  <joint name="depth_rgb_fixed_joint" type="fixed">
    <origin xyz="0.0598814 0.0184871 0.04402" rpy="-1.57079632679 0 -1.57079632679"/>
    <parent link="head_link"/>
    <child link="depth_rgb"/>
    <dynamics damping="0.1"/>
  </joint>
  <link name="head_leopard_cyclopic"/>
  <joint name="head_leopard_cyclopic_fixed_joint" type="fixed">
    <origin xyz="0.0521666 0 -0.06748" rpy="-1.57079632679 0 -1.57079632679"/>
    <parent link="head_link"/>
    <child link="head_leopard_cyclopic"/>
    <dynamics damping="0.1"/>
  </joint>
  <link name="gaze"/>
  <joint name="gaze_fixed_joint" type="fixed">
    <origin xyz="0.0494817 0 -0.01388" rpy="-1.57079632679 0 -1.57079632679"/>
    <parent link="head_link"/>
    <child link="gaze"/>
    <dynamics damping="0.1"/>
  </joint>
  <link name="head_leopard_right"/>
  <joint name="head_leopard_right_fixed_joint" type="fixed">
    <origin xyz="0.0521666 -0.0335105 -0.06748" rpy="-1.57079632679 0 -1.57079632679"/>
    <parent link="head_link"/>
    <child link="head_leopard_right"/>
    <dynamics damping="0.1"/>
  </joint>
  <link name="head_leopard_left"/>
  <joint name="head_leopard_left_fixed_joint" type="fixed">
    <origin xyz="0.0521666 0.0335105 -0.06748" rpy="-1.57079632679 0 -1.57079632679"/>
    <parent link="head_link"/>
    <child link="head_leopard_left"/>
    <dynamics damping="0.1"/>
  </joint>
  <link name="depth"/>
  <joint name="depth_fixed_joint" type="fixed">
    <origin xyz="0.0598814 0.0444871 0.04402" rpy="-1.57079632679 0 -1.57079632679"/>
    <parent link="head_link"/>
    <child link="depth"/>
    <dynamics damping="0.1"/>
  </joint>
  <link name="depth_center"/>
  <joint name="depth_center_fixed_joint" type="fixed">
    <origin xyz="0.0598756 0 0.04402" rpy="-1.57079632679 0 -1.57079632679"/>
    <parent link="head_link"/>
    <child link="depth_center"/>
    <dynamics damping="0.1"/>
  </joint>
  <link name="mobile_base_r_tyre_link">
    <inertial>
      <origin xyz="0 -0.034425 8.99999999998e-06" rpy="0 0 0"/>
      <mass value="3.0"/>
      <inertia ixx="0.0200196" ixy="0.0" ixz="0.0" iyy="0.0376169" iyz="8.28101e-07" izz="0.0200156"/>
    </inertial>
    <visual>
      <origin xyz="0 0.139 -0.16" rpy="0 0 0"/>
      <geometry>
        <mesh filename="package://cer/meshes/dae/sim_cer_mobilebase_r_tyre.dae" scale="0.001 0.001 0.001"/>
      </geometry>
      <material name="yellow"/>
    </visual>
    <collision>
      <origin xyz="0.0 -0.03 0.0" rpy="1.57079632679 0.0 0.0"/>
      <geometry>
        <cylinder radius="0.16" length="0.005"/>
      </geometry>
    </collision>
  </link>
  <joint name="mobile_base_r_wheel_joint" type="continuous">
    <origin xyz="0 -0.139 0" rpy="0 0 0"/>
    <axis xyz="0.0 1.0 0.0"/>
    <parent link="mobile_base_body_link"/>
    <child link="mobile_base_r_tyre_link"/>
    <limit effort="100.0" velocity="30.0"/>
    <dynamics damping="0.5"/>
  </joint>
  <link name="mobile_base_l_tyre_link">
    <inertial>
      <origin xyz="0 0.034425 8.99999999998e-06" rpy="0 0 0"/>
      <mass value="3.0"/>
      <inertia ixx="0.0200196" ixy="0.0" ixz="0.0" iyy="0.0376169" iyz="-8.28446e-07" izz="0.0200156"/>
    </inertial>
    <visual>
      <origin xyz="0 -0.139 -0.16" rpy="0 0 0"/>
      <geometry>
        <mesh filename="package://cer/meshes/dae/sim_cer_mobilebase_l_tyre.dae" scale="0.001 0.001 0.001"/>
      </geometry>
      <material name="pink"/>
    </visual>
    <collision>
      <origin xyz="0.0 0.03 0.0" rpy="1.57079632679 0.0 0.0"/>
      <geometry>
        <cylinder radius="0.16" length="0.005"/>
      </geometry>
    </collision>
  </link>
  <joint name="mobile_base_l_wheel_joint" type="continuous">
    <origin xyz="0 0.139 0" rpy="0 0 0"/>
    <axis xyz="0.0 1.0 0.0"/>
    <parent link="mobile_base_body_link"/>
    <child link="mobile_base_l_tyre_link"/>
    <limit effort="100.0" velocity="30.0"/>
    <dynamics damping="0.5"/>
  </joint>
  <gazebo reference="l_upperarm_FT_sensor">
    <sensor name="l_upperarm_FT_sensor" type="force_torque">
      <always_on>1</always_on>
      <update_rate>100</update_rate>
      <force_torque>
        <frame>child</frame>
        <measure_direction>child_to_parent</measure_direction>
      </force_torque>
    </sensor>
  </gazebo>
  <sensor name="l_upperarm_FT_sensor" type="force_torque">
    <parent joint="l_upperarm_FT_sensor"/>
    <force_torque>
      <frame>child</frame>
      <measure_direction>child_to_parent</measure_direction>
    </force_torque>
  </sensor>
  <gazebo reference="r_upperarm_FT_sensor">
    <sensor name="r_upperarm_FT_sensor" type="force_torque">
      <always_on>1</always_on>
      <update_rate>100</update_rate>
      <force_torque>
        <frame>child</frame>
        <measure_direction>child_to_parent</measure_direction>
      </force_torque>
    </sensor>
  </gazebo>
  <sensor name="r_upperarm_FT_sensor" type="force_torque">
    <parent joint="r_upperarm_FT_sensor"/>
    <force_torque>
      <frame>child</frame>
      <measure_direction>child_to_parent</measure_direction>
    </force_torque>
  </sensor>
  <gazebo reference="mobile_base_body_link">
    <sensor name="base_laser" type="ray">
      <always_on>1</always_on>
      <update_rate>40</update_rate>
      <pose>0.07 0.0 0.031 0.0 -0.0 0.0</pose>
      <ray>
 <scan>
  <horizontal>
   <samples>360</samples>
   <resolution>1</resolution>
   <min_angle>-3.14</min_angle>
   <max_angle>3.14</max_angle>
  </horizontal>
 </scan>
 <range>
  <min>0.10</min>
  <max>5.0</max>
  <resolution>0.01</resolution>
 </range>
 <noise>
  <type>gaussian</type>
  <mean>0.0</mean>
  <stddev>0.005</stddev>
 </noise>
</ray>
      <plugin name="laser_sensor" filename="libgazebo_yarp_lasersensor.so">
    <yarpConfigurationFile>package://cer/conf/gazebo_cer_laser_sensor.ini</yarpConfigurationFile>
</plugin>
    </sensor>
  </gazebo>
  <sensor name="base_laser" type="ray">
    <parent link="mobile_base_body_link"/>
    <origin rpy="0.0 -0.0 0.0" xyz="0.07 0.0 0.031"/>
  </sensor>
  <gazebo reference="head_link">
    <sensor name="multicamera_sensor" type="multicamera">
      <always_on>1</always_on>
      <update_rate>30</update_rate>
      <pose>0.0521666 0.0 -0.06748 -1.57079632679 -0.0 -1.57079632679</pose>
      <camera name="left_camera">
  <pose>-0.0325 0 0 -1.57079 -1.57079 3.14159</pose>
  <horizontal_fov>1.5708</horizontal_fov>
  <image>
     <width>640</width>
     <height>480</height>
  </image>
  <clip>
     <near>0.1</near>
     <far>100</far>
  </clip>
</camera>
      <camera name="right_camera">
  <pose>0.0325 0 0 -1.57079 -1.57079 3.14159</pose>
  <horizontal_fov>1.5708</horizontal_fov>
  <image>
    <width>640</width>
    <height>480</height>
  </image>
  <clip>
    <near>0.1</near>
    <far>100</far>
  </clip>
</camera>
      <plugin name="multicamera_plugin" filename="libgazebo_yarp_multicamera.so">
    <yarpConfigurationFile>package://cer/conf/gazebo_cer_multicamera.ini</yarpConfigurationFile>
</plugin>
    </sensor>
  </gazebo>
  <sensor name="multicamera_sensor" type="multicamera">
    <parent link="head_link"/>
    <origin rpy="-1.57079632679 -0.0 -1.57079632679" xyz="0.0521666 0.0 -0.06748"/>
  </sensor>
  <gazebo reference="head_link">
    <sensor name="asus_xtion_depth" type="depth">
      <always_on>1</always_on>
      <update_rate>30</update_rate>
      <pose>0.0598814 0.0444871 0.04402 -1.57079632679 -0.0 -1.57079632679</pose>
      <camera name="asus_xtion_depth_camera">
    <pose frame="">0 0 0 -1.57079 -1.57079 3.14159</pose>
    <horizontal_fov>1.02259</horizontal_fov>
    <distortion>
        <k1>0</k1>
        <k2>0</k2>
        <k3>0</k3>
        <p1>0</p1>
        <p2>0</p2>
        <center>319.5 239.5</center>
    </distortion>
    <image>
        <width>640</width>
        <height>480</height>
        <format>R8G8B8</format>
    </image>
    <clip>
        <near>0.02</near>
        <far>3000</far>
    </clip>
</camera>
      <plugin filename="libgazebo_yarp_depthCamera.so" name="depth_camera_plugin">
    <yarpConfigurationFile>package://cer/conf/gazebo_cer_depthCamera.ini</yarpConfigurationFile>
</plugin>
    </sensor>
  </gazebo>
  <sensor name="asus_xtion_depth" type="depth">
    <parent link="head_link"/>
    <origin rpy="-1.57079632679 -0.0 -1.57079632679" xyz="0.0598814 0.0444871 0.04402"/>
  </sensor>
  <gazebo reference="head_link">
    <sensor name="asus_xtion_rgb" type="camera">
      <always_on>1</always_on>
      <update_rate>30</update_rate>
      <pose>0.0598814 0.0184871 0.04402 -1.57079632679 -0.0 -1.57079632679</pose>
      <camera name="asus_xtion_rgb_camera">
    <pose frame="">0 0 0 -1.57079 -1.57079 3.14159</pose>
    <horizontal_fov>1.02259</horizontal_fov>
    <distortion>
        <k1>0</k1>
        <k2>0</k2>
        <k3>0</k3>
        <p1>0</p1>
        <p2>0</p2>
        <center>319.5 239.5</center>
    </distortion>
    <image>
        <width>640</width>
        <height>480</height>
        <format>R8G8B8</format>
    </image>
    <clip>
        <near>0.02</near>
        <far>3000</far>
    </clip>
</camera>
      <plugin filename="libgazebo_yarp_camera.so" name="xtion_camera_rgb_plugin">
    <yarpConfigurationFile>package://cer/conf/gazebo_cer_xtion_camera_rgb.ini</yarpConfigurationFile>
</plugin>
    </sensor>
  </gazebo>
  <sensor name="asus_xtion_rgb" type="camera">
    <parent link="head_link"/>
    <origin rpy="-1.57079632679 -0.0 -1.57079632679" xyz="0.0598814 0.0184871 0.04402"/>
  </sensor>
  <gazebo>
<!-- TORSO user view -->
<plugin name="controlboard_torso" filename="libgazebo_yarp_controlboard.so">
  <yarpConfigurationFile>package://cer/conf/gazebo_cer_torso.ini</yarpConfigurationFile>
</plugin>
<!-- TORSO low level view -->
<plugin name="controlboard_torso_tripod" filename="libgazeboTripod.so">
  <yarpConfigurationFile>package://cer/conf/gazebo_cer_torso_tripod.ini</yarpConfigurationFile>
</plugin>

<plugin name="controlboard_left_upper_arm" filename="libgazebo_yarp_controlboard.so">
  <yarpConfigurationFile>package://cer/conf/gazebo_cer_left_upper_arm.ini</yarpConfigurationFile>
</plugin>
<!-- LEFT WRIST user view -->
<plugin name="controlboard_left_wrist" filename="libgazebo_yarp_controlboard.so">
  <yarpConfigurationFile>package://cer/conf/gazebo_cer_left_wrist.ini</yarpConfigurationFile>
</plugin>
<!-- LEFT WRIST low level view -->
<plugin name="controlboard_left_wrist_tripod" filename="libgazeboTripod.so">
  <yarpConfigurationFile>package://cer/conf/gazebo_cer_left_wrist_tripod.ini</yarpConfigurationFile>
</plugin>

<plugin name="controlboard_right_upper_arm" filename="libgazebo_yarp_controlboard.so">
  <yarpConfigurationFile>package://cer/conf/gazebo_cer_right_upper_arm.ini</yarpConfigurationFile>
</plugin>
<!-- RIGHT WRIST user view -->
<plugin name="controlboard_right_wrist" filename="libgazebo_yarp_controlboard.so">
  <yarpConfigurationFile>package://cer/conf/gazebo_cer_right_wrist.ini</yarpConfigurationFile>
</plugin>
<!-- RIGHT WRIST low level view -->
<plugin name="controlboard_right_wrist_tripod" filename="libgazeboTripod.so">
  <yarpConfigurationFile>package://cer/conf/gazebo_cer_right_wrist_tripod.ini</yarpConfigurationFile>
</plugin>

<plugin name="controlboard_right_arm" filename="libgazebo_yarp_controlboard.so">
  <yarpConfigurationFile>package://cer/conf/gazebo_cer_right_arm.ini</yarpConfigurationFile>
</plugin>
<plugin name="controlboard_left_arm" filename="libgazebo_yarp_controlboard.so">
  <yarpConfigurationFile>package://cer/conf/gazebo_cer_left_arm.ini</yarpConfigurationFile>
</plugin>

<plugin name="controlboard_head" filename="libgazebo_yarp_controlboard.so">
  <yarpConfigurationFile>package://cer/conf/gazebo_cer_head.ini</yarpConfigurationFile>
</plugin>

<plugin name="controlboard_left_hand" filename="libgazebo_yarp_controlboard.so">
  <yarpConfigurationFile>package://cer/conf/gazebo_cer_left_hand.ini</yarpConfigurationFile>
</plugin>

<plugin name="controlboard_right_hand" filename="libgazebo_yarp_controlboard.so">
  <yarpConfigurationFile>package://cer/conf/gazebo_cer_right_hand.ini</yarpConfigurationFile>
</plugin>

<plugin name="mais_left_hand" filename="libgazebo_yarp_maissensor.so">
  <yarpConfigurationFile>package://cer/conf/gazebo_cer_left_hand_mais.ini</yarpConfigurationFile>
</plugin>
<plugin name="mais_right_hand" filename="libgazebo_yarp_maissensor.so">
  <yarpConfigurationFile>package://cer/conf/gazebo_cer_right_hand_mais.ini</yarpConfigurationFile>
</plugin>

<plugin name="controlboard_mobile_base" filename="libgazebo_yarp_controlboard.so">
  <yarpConfigurationFile>package://cer/conf/gazebo_cer_mobile_base.ini</yarpConfigurationFile>
</plugin>
<plugin name="controlboard_all" filename="libgazebo_yarp_controlboard.so">
  <yarpConfigurationFile>package://cer/conf/gazebo_cer_all.ini</yarpConfigurationFile>
</plugin>
<plugin name="world_interface" filename="libgazebo_yarp_worldinterface.so">
  <yarpConfigurationFile>package://cer/conf/worldInterface.ini</yarpConfigurationFile>
</plugin>
</gazebo>
  <gazebo reference="mobile_base_body_link">
    <collision>
      <surface>
        <contact>
          <ode/>
        </contact>
        <friction>
          <ode>
            <mu>0.0</mu>
            <mu2>0.0</mu2>
          </ode>
        </friction>
      </surface>
    </collision>
</gazebo>
  <gazebo>
  <pose>0 0 0.16 0 0 0</pose>
</gazebo>
  <gazebo reference="mobile_base_l_wheel_joint">
  <implicitSpringDamper>1</implicitSpringDamper>
</gazebo>
  <gazebo reference="mobile_base_r_wheel_joint">
  <implicitSpringDamper>1</implicitSpringDamper>
</gazebo>
  <gazebo reference="torso_heave_eq_joint">
  <implicitSpringDamper>1</implicitSpringDamper>
</gazebo>
  <gazebo reference="torso_roll_eq_joint">
  <implicitSpringDamper>1</implicitSpringDamper>
</gazebo>
  <gazebo reference="torso_pitch_eq_joint">
  <implicitSpringDamper>1</implicitSpringDamper>
</gazebo>
  <gazebo reference="torso_yaw_joint">
  <implicitSpringDamper>1</implicitSpringDamper>
</gazebo>
  <gazebo reference="neck_pitch_joint">
  <implicitSpringDamper>1</implicitSpringDamper>
</gazebo>
  <gazebo reference="neck_yaw_joint">
  <implicitSpringDamper>1</implicitSpringDamper>
</gazebo>
  <gazebo reference="l_shoulder_pitch_joint">
  <implicitSpringDamper>1</implicitSpringDamper>
</gazebo>
  <gazebo reference="l_shoulder_roll_joint">
  <implicitSpringDamper>1</implicitSpringDamper>
</gazebo>
  <gazebo reference="l_shoulder_yaw_joint">
  <implicitSpringDamper>1</implicitSpringDamper>
</gazebo>
  <gazebo reference="l_elbow_joint">
  <implicitSpringDamper>1</implicitSpringDamper>
</gazebo>
  <gazebo reference="l_wrist_pronosupination_joint">
  <implicitSpringDamper>1</implicitSpringDamper>
</gazebo>
  <gazebo reference="l_wrist_heave_eq_joint">
  <implicitSpringDamper>1</implicitSpringDamper>
</gazebo>
  <gazebo reference="l_wrist_roll_eq_joint">
  <implicitSpringDamper>1</implicitSpringDamper>
</gazebo>
  <gazebo reference="l_wrist_pitch_eq_joint">
  <implicitSpringDamper>1</implicitSpringDamper>
</gazebo>
  <gazebo reference="l_hand_paddle_proximal_joint">
  <implicitSpringDamper>1</implicitSpringDamper>
</gazebo>
  <gazebo reference="l_hand_paddle_distal_joint">
  <implicitSpringDamper>1</implicitSpringDamper>
</gazebo>
  <gazebo reference="l_hand_thumb_proximal_joint">
  <implicitSpringDamper>1</implicitSpringDamper>
</gazebo>
  <gazebo reference="l_hand_thumb_distal_joint">
  <implicitSpringDamper>1</implicitSpringDamper>
</gazebo>
  <gazebo reference="r_shoulder_pitch_joint">
  <implicitSpringDamper>1</implicitSpringDamper>
</gazebo>
  <gazebo reference="r_shoulder_roll_joint">
  <implicitSpringDamper>1</implicitSpringDamper>
</gazebo>
  <gazebo reference="r_shoulder_yaw_joint">
  <implicitSpringDamper>1</implicitSpringDamper>
</gazebo>
  <gazebo reference="r_elbow_joint">
  <implicitSpringDamper>1</implicitSpringDamper>
</gazebo>
  <gazebo reference="r_wrist_pronosupination_joint">
  <implicitSpringDamper>1</implicitSpringDamper>
</gazebo>
  <gazebo reference="r_wrist_heave_eq_joint">
  <implicitSpringDamper>1</implicitSpringDamper>
</gazebo>
  <gazebo reference="r_wrist_roll_eq_joint">
  <implicitSpringDamper>1</implicitSpringDamper>
</gazebo>
  <gazebo reference="r_wrist_pitch_eq_joint">
  <implicitSpringDamper>1</implicitSpringDamper>
</gazebo>
  <gazebo reference="r_hand_paddle_proximal_joint">
  <implicitSpringDamper>1</implicitSpringDamper>
</gazebo>
  <gazebo reference="r_hand_paddle_distal_joint">
  <implicitSpringDamper>1</implicitSpringDamper>
</gazebo>
  <gazebo reference="r_hand_thumb_proximal_joint">
  <implicitSpringDamper>1</implicitSpringDamper>
</gazebo>
  <gazebo reference="r_hand_thumb_distal_joint">
  <implicitSpringDamper>1</implicitSpringDamper>
</gazebo>
</robot>
